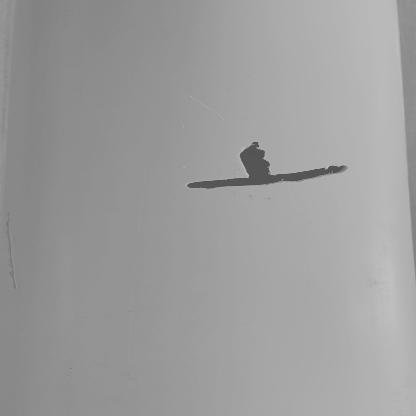fengxi: (186, 165, 352, 189)
kongdong: (239, 141, 274, 179)
